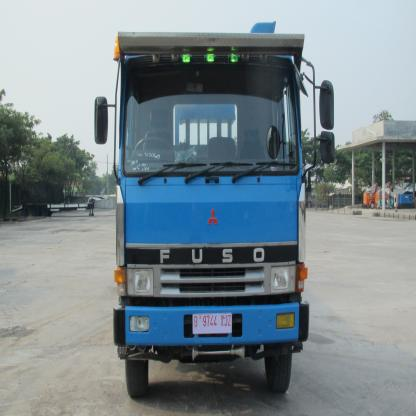truck: (92, 29, 336, 404)
